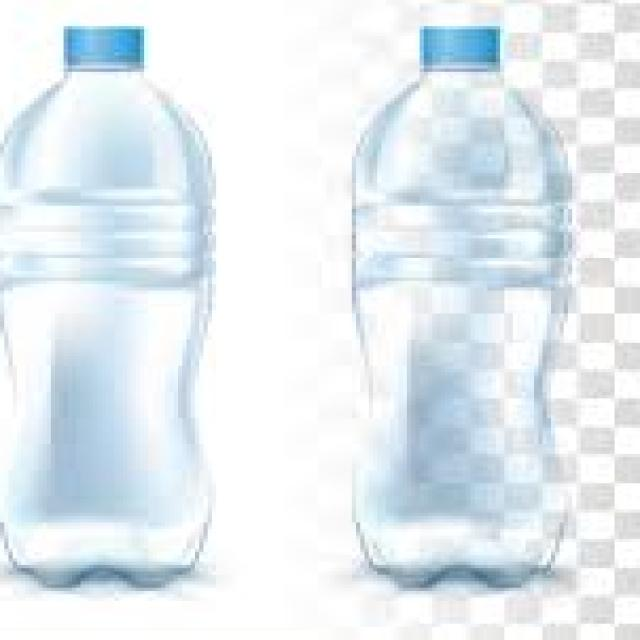organic: (328, 5, 600, 598), (15, 13, 249, 586)
